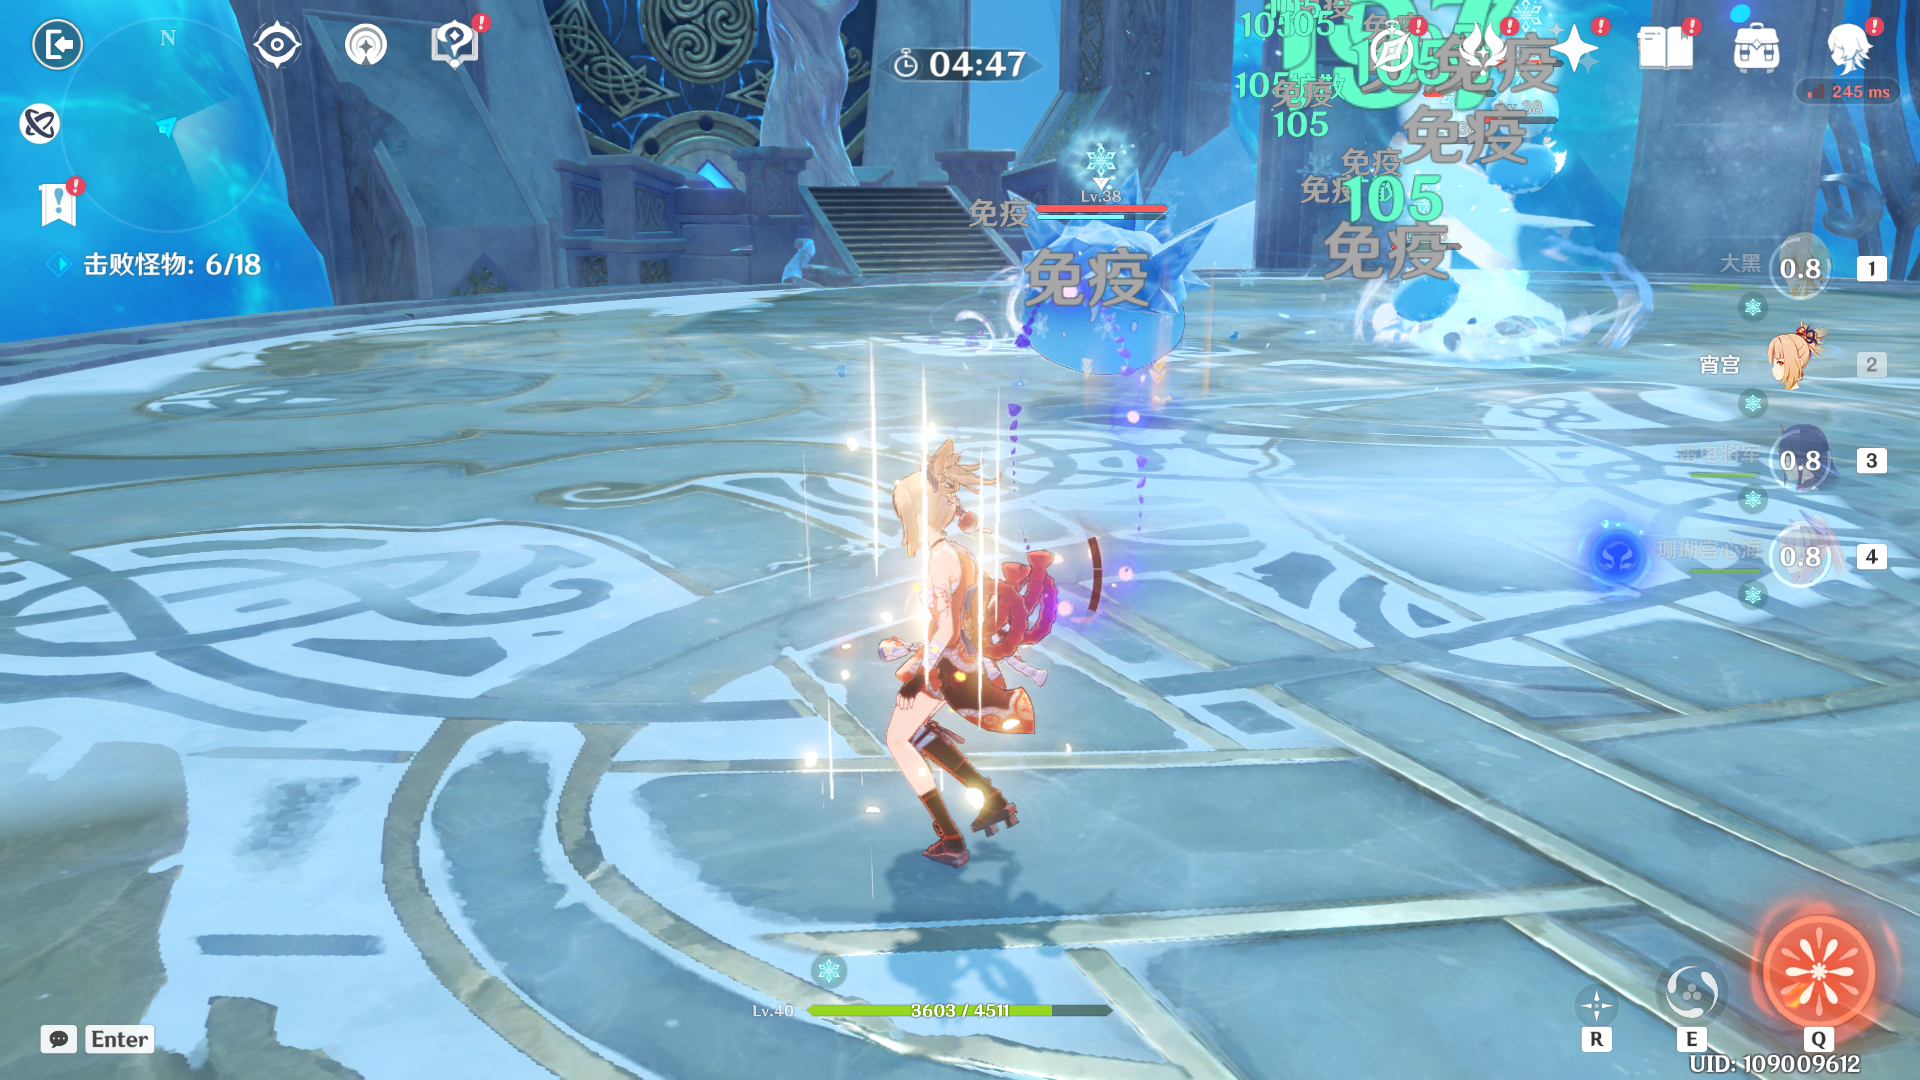character: (794, 421, 1168, 889)
slime: (957, 195, 1226, 407), (1382, 253, 1473, 332)
